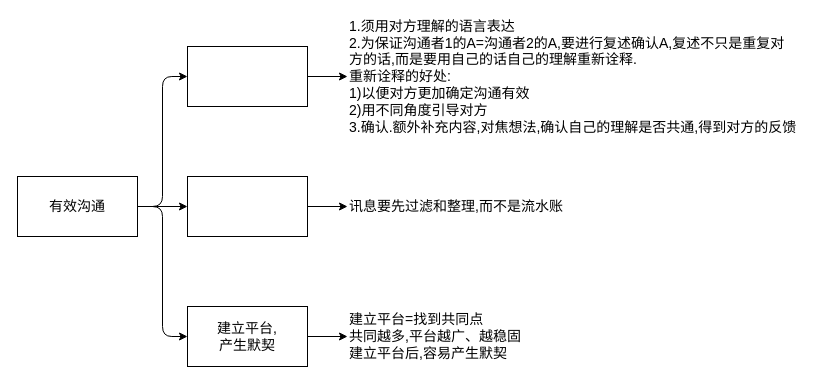
This 815x384 diagram has some shape labels left out. The centre of each missing label's shape, as x and y in pixels:
复述\确认: [247,76]
讯息清楚: [247,206]
